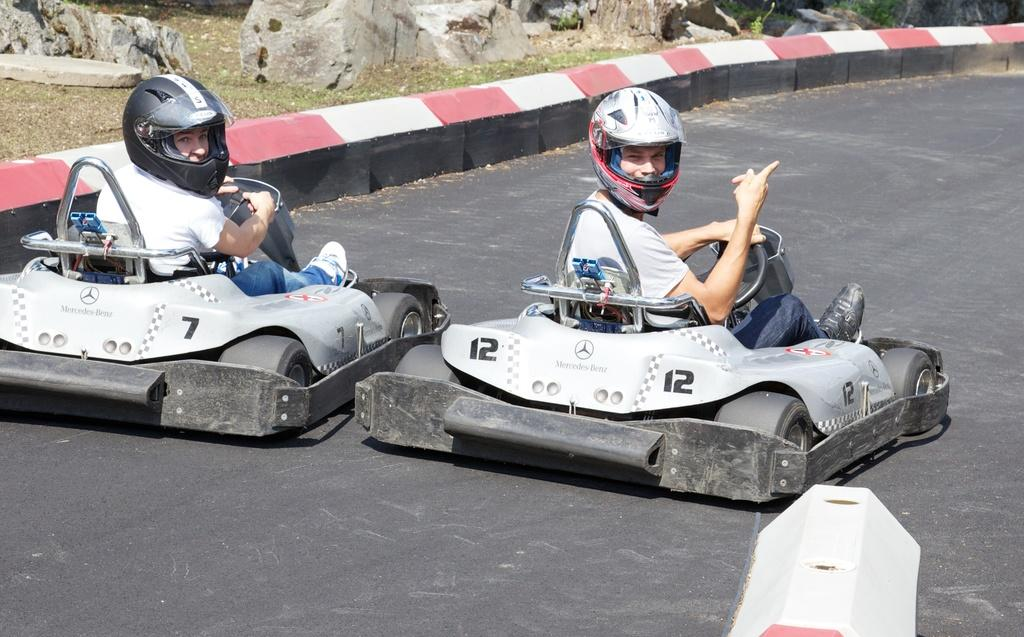helmet: (122, 74, 235, 196), (588, 87, 687, 213)
